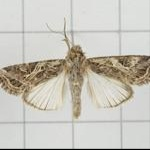Spodoptera litura: (0, 16, 149, 119)
